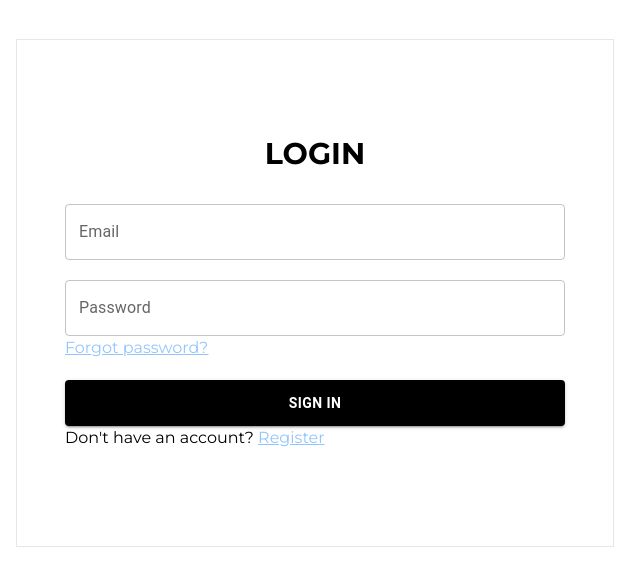
Test: Login › should validate the form
Click the button "Sign In" at (315, 403), box [65, 380, 565, 426]
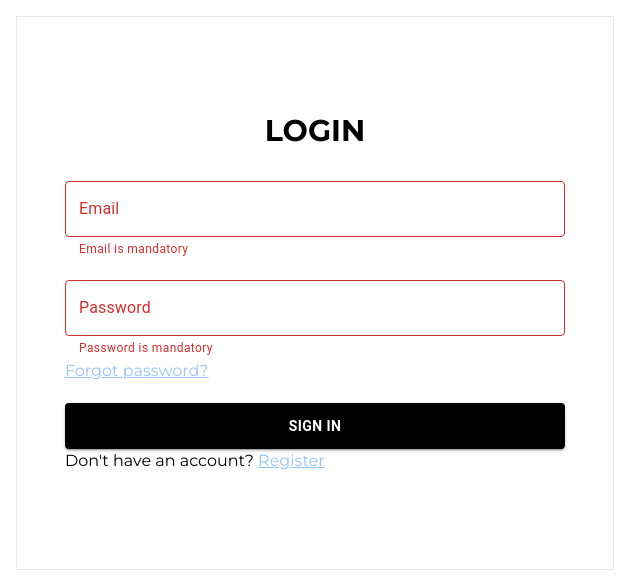
Now the text "Email is mandatory" is shown, box [79, 242, 188, 256]
Now the text "Password is mandatory" is shown, box [79, 341, 213, 355]
